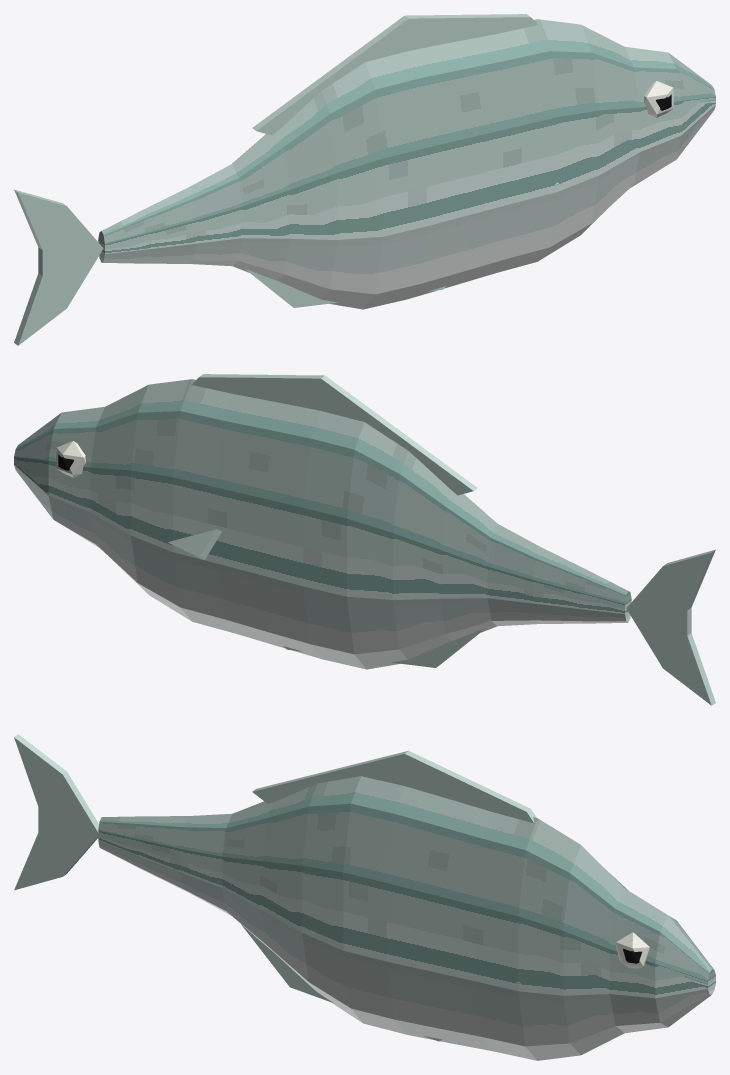
The model's file is glass_perchlet.glb.
3 views of the same model, one above another, from view 1: azimuth 30°, elevation 25°; view 2: azimuth 150°, elevation 25°; view 3: azimuth 330°, elevation 25° (orthographic).
Visible parts, largest first — view 1: fish_glass_perchlet; view 2: fish_glass_perchlet; view 3: fish_glass_perchlet.
Part boxes in pixels (x1,y1,x2,y2): fish_glass_perchlet: (14,14,715,345); fish_glass_perchlet: (14,374,715,705); fish_glass_perchlet: (14,734,715,1060).
Size of the model in its own units: 1.14 by 0.4423 by 0.1417.
4 materials, 1 textured.
